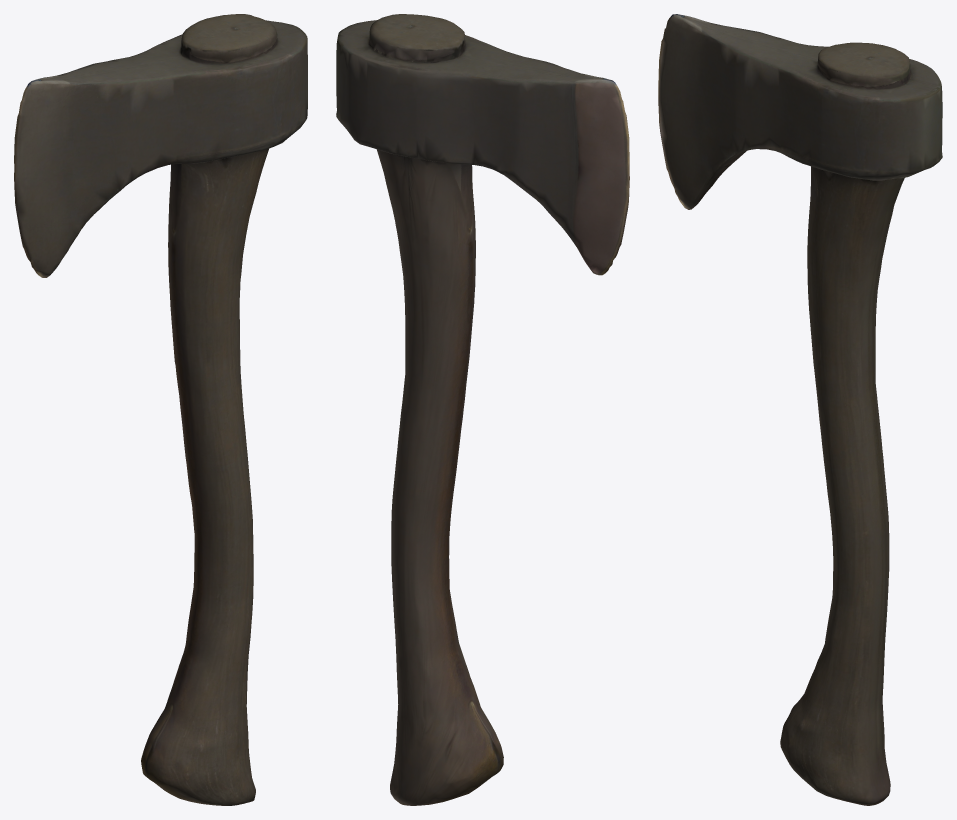
The model's file is Axe_0715060311_texture.fbx.
3 renders of one model, left to right at view 1: azimuth 30°, elevation 25°; view 2: azimuth 150°, elevation 25°; view 3: azimuth 330°, elevation 25°, orthographic. The views are drawn at different scales.
Parts seen in each view (by area): view 1: Mesh_0; view 2: Mesh_0; view 3: Mesh_0.
Boxes of the visible parts, <box> form: Mesh_0: <box>14,14,307,805</box>; Mesh_0: <box>336,14,629,805</box>; Mesh_0: <box>658,14,942,805</box>.
Bounding box in the file's own units: 78.44 × 200 × 26.26.
Materials: 1 (1 with a texture image).
